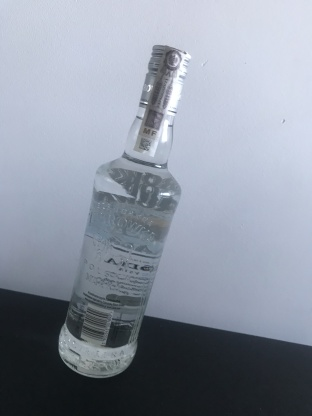nakretka: (136, 41, 193, 120)
